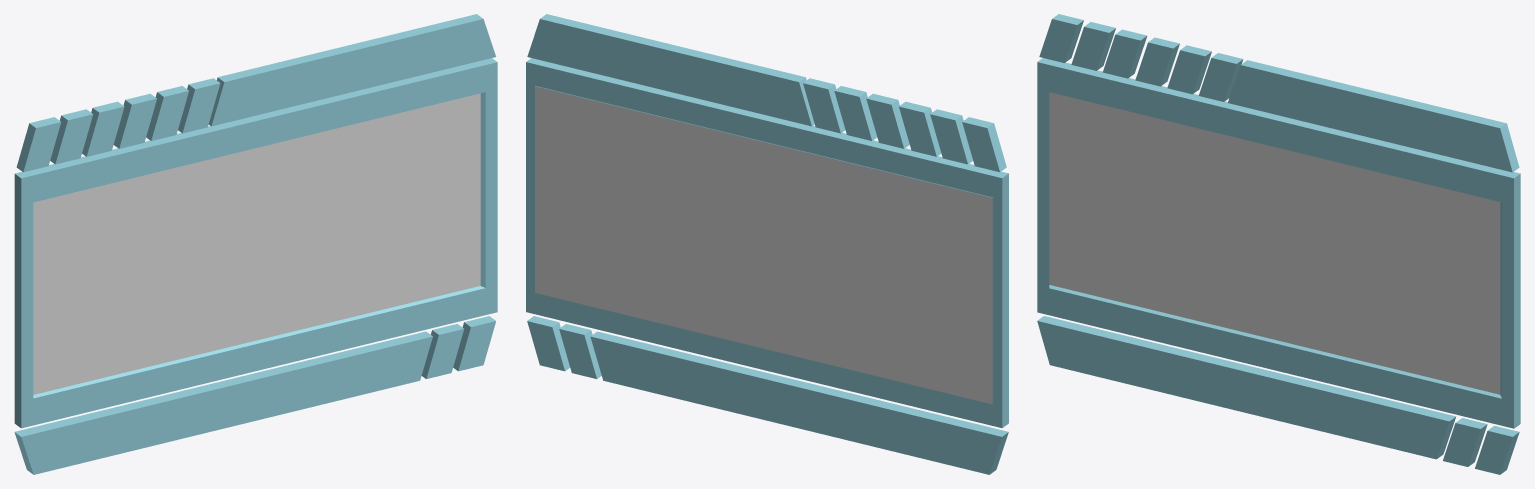
The model's file is HUD.glb.
The picture shows the model from 3 angles, left to right: view 1: azimuth 30°, elevation 25°; view 2: azimuth 150°, elevation 25°; view 3: azimuth 330°, elevation 25°; orthographic projection.
Parts seen in each view (by area): view 1: Plane, Plane.008, Plane.007, Plane.004, Plane.003, Plane.011, Plane.002, Plane.005, Plane.010, Plane.001, Plane.006; view 2: Plane, Plane.008, Plane.007, Plane.004, Plane.003, Plane.011, Plane.005, Plane.002, Plane.010, Plane.001, Plane.006; view 3: Plane, Plane.008, Plane.007, Plane.004, Plane.010, Plane.005, Plane.011, Plane.006, Plane.002, Plane.003, Plane.001.
Part boxes in pixels (box(x1,y1,x2,y2)): Plane: box(14, 58, 497, 428); Plane.008: box(14, 331, 432, 474); Plane.007: box(208, 14, 495, 126); Plane.004: box(16, 117, 61, 172); Plane.003: box(113, 93, 156, 148); Plane.011: box(453, 316, 495, 371); Plane.002: box(146, 86, 188, 140); Plane.005: box(50, 109, 93, 164); Plane.010: box(421, 324, 463, 378); Plane.001: box(178, 78, 220, 133); Plane.006: box(82, 101, 124, 156); Plane: box(526, 58, 1008, 428); Plane.008: box(590, 331, 1008, 474); Plane.007: box(527, 14, 814, 126); Plane.004: box(962, 117, 1006, 172); Plane.003: box(866, 93, 909, 148); Plane.011: box(527, 316, 569, 371); Plane.005: box(930, 109, 973, 164); Plane.002: box(834, 86, 877, 140); Plane.010: box(559, 324, 601, 378); Plane.001: box(803, 78, 845, 133); Plane.006: box(899, 101, 941, 156); Plane: box(1037, 58, 1520, 428); Plane.008: box(1037, 316, 1456, 459); Plane.007: box(1228, 60, 1519, 172); Plane.004: box(1039, 14, 1083, 62); Plane.010: box(1443, 418, 1487, 466); Plane.005: box(1071, 22, 1115, 70); Plane.011: box(1475, 425, 1519, 474); Plane.006: box(1102, 29, 1147, 78); Plane.002: box(1167, 45, 1211, 94); Plane.003: box(1135, 37, 1179, 86); Plane.001: box(1198, 53, 1243, 101).
Bounding box in the file's own units: 3.99 × 2.77 × 0.0999.
